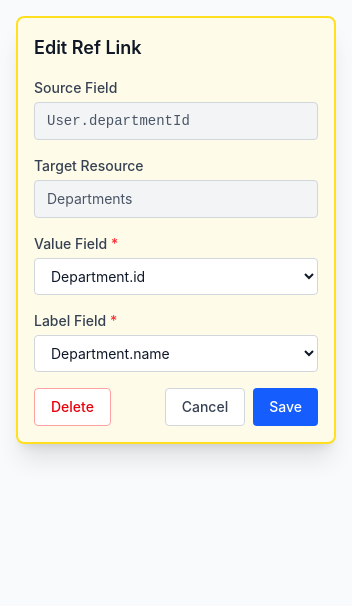
Test: RefLinkEditPanel › should hide delete confirmation dialog when cancel is clicked
Click the button with test id "delete-button".
click(72, 407)  # box [34,388,111,426]
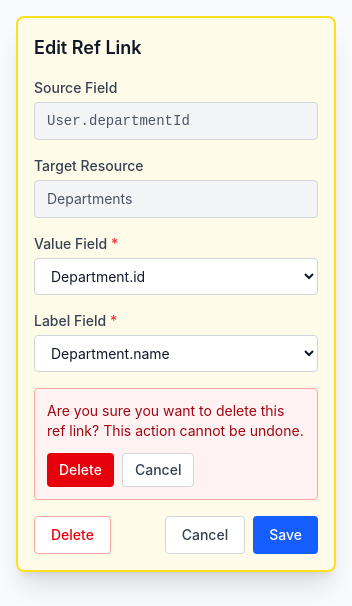
Now the element with test id "delete-confirmation" is shown, box [34,388,318,500]
Click the button with test id "cancel-delete-button".
click(158, 470)  # box [122,453,194,487]
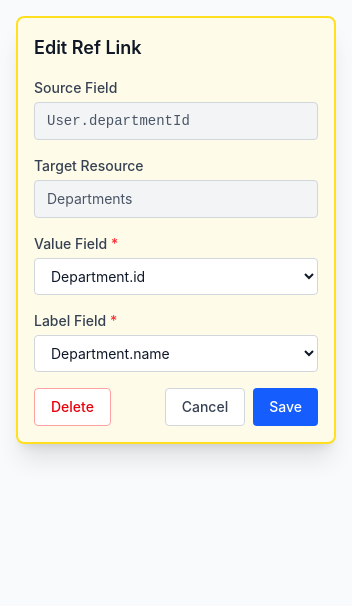
Now the element with test id "delete-confirmation" is gone
